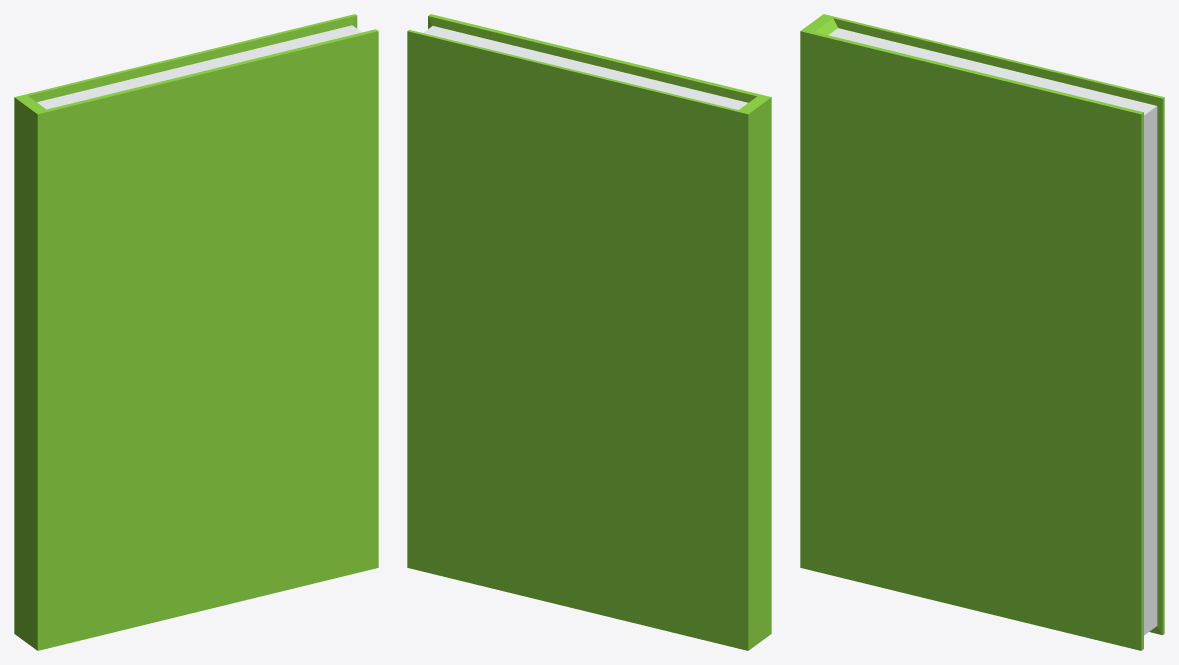
Rendered from livro2.fbx.
3 renders of one model, left to right at view 1: azimuth 30°, elevation 25°; view 2: azimuth 150°, elevation 25°; view 3: azimuth 330°, elevation 25°, orthographic.
Parts seen in each view (by area): view 1: Cube.002; view 2: Cube.002; view 3: Cube.002.
Part boxes in pixels (<box>): Cube.002: <box>14,14,378,650</box>; Cube.002: <box>407,14,771,650</box>; Cube.002: <box>800,14,1164,650</box>.
Bounding box in the file's own units: 29.81 × 44.82 × 3.55.
